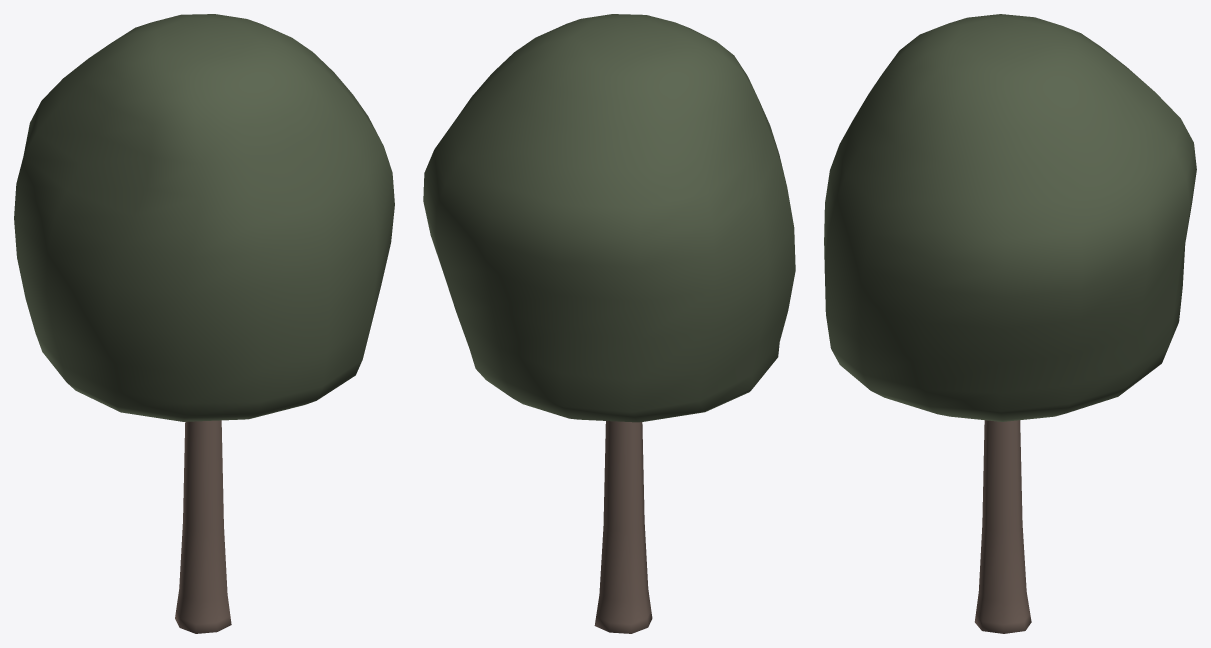
File: Tree_Round_Green.fbx
3 renders of one model, left to right at view 1: azimuth 30°, elevation 25°; view 2: azimuth 150°, elevation 25°; view 3: azimuth 270°, elevation 25°, orthographic.
Parts seen in each view (by area): view 1: Leaves, Trunk; view 2: Leaves, Trunk; view 3: Leaves, Trunk.
Boxes of the visible parts, box(x1,y1,x2,y2) form: Leaves: box(14, 14, 394, 421); Trunk: box(175, 420, 231, 633); Leaves: box(423, 14, 795, 422); Trunk: box(594, 421, 652, 633); Leaves: box(824, 14, 1196, 421); Trunk: box(974, 420, 1031, 633).
Size of the model in its own units: 1.06 by 1.84 by 1.05.
